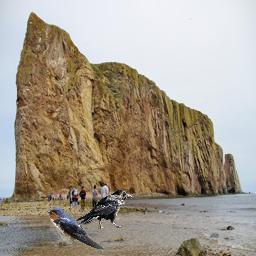Crow: (75, 189, 132, 231)
Swallow: (47, 206, 104, 250)
